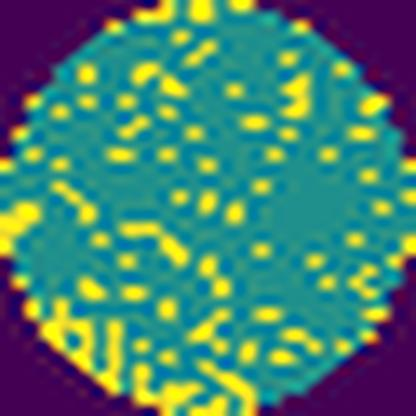Edge-Loc: (25, 299, 258, 416), (0, 194, 41, 257)
